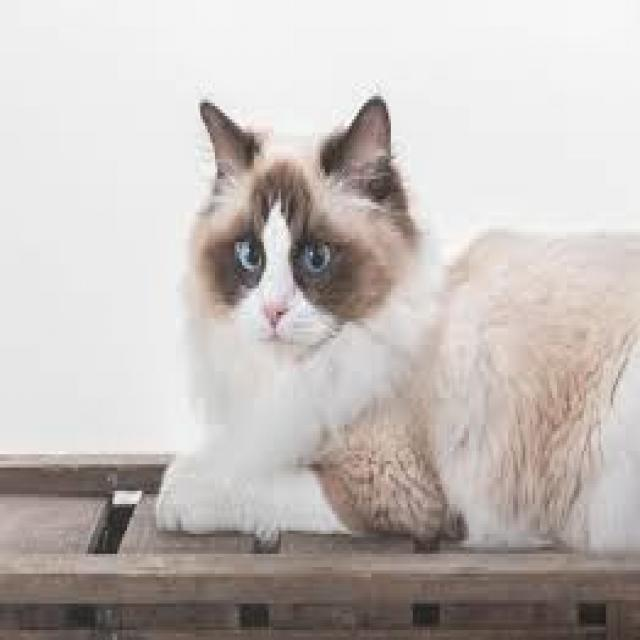Cat: (151, 91, 640, 564)
